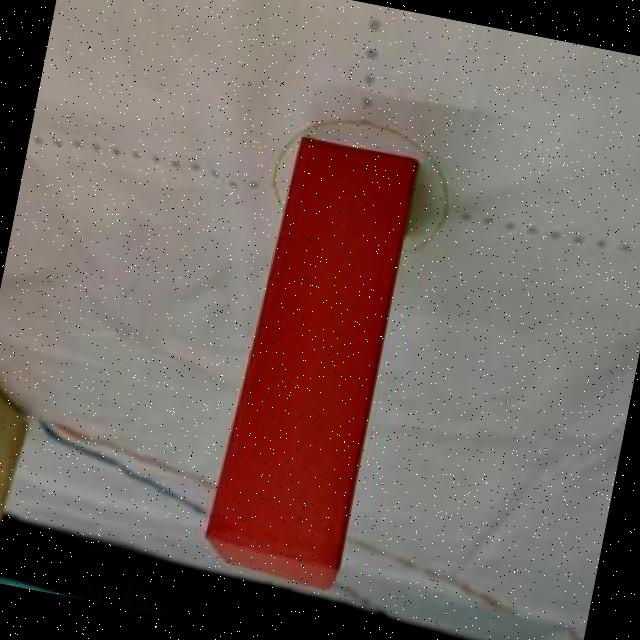redbox: (200, 134, 421, 593)
